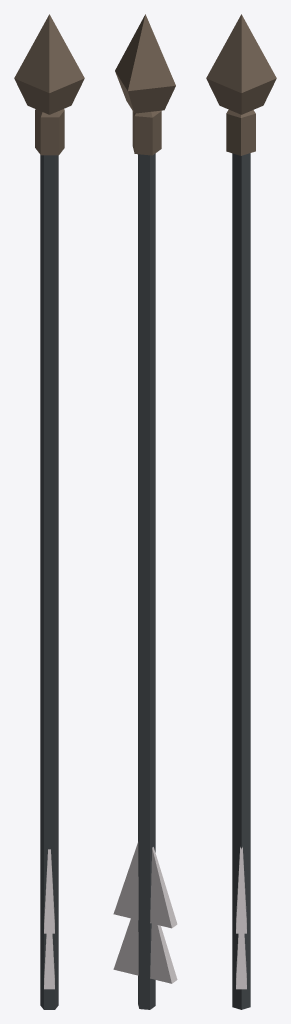
The model's file is _arrow_c_19.glb.
The picture shows the model from 3 angles, left to right: view 1: azimuth 90°, elevation 25°; view 2: azimuth 150°, elevation 25°; view 3: azimuth 270°, elevation 25°; orthographic projection.
Parts seen in each view (by area): view 1: arrow_c_19; view 2: arrow_c_19; view 3: arrow_c_19.
Part boxes in pixels (x1=…): arrow_c_19: x1=14, y1=14, x2=84, y2=1009; arrow_c_19: x1=113, y1=14, x2=177, y2=1009; arrow_c_19: x1=206, y1=14, x2=276, y2=1009.
Size of the model in its own units: 1298 by 20104 by 1298.
Materials: 1 (1 with a texture image).
